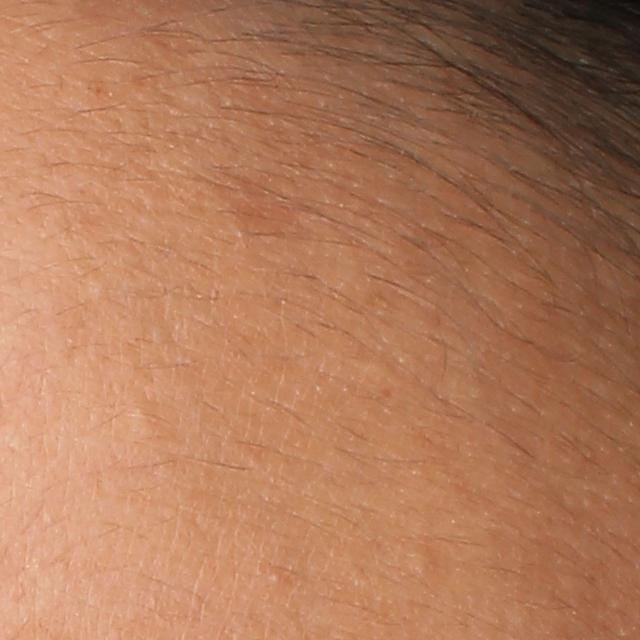comedo: (405, 546, 430, 582), (88, 278, 108, 302), (267, 569, 286, 587)
